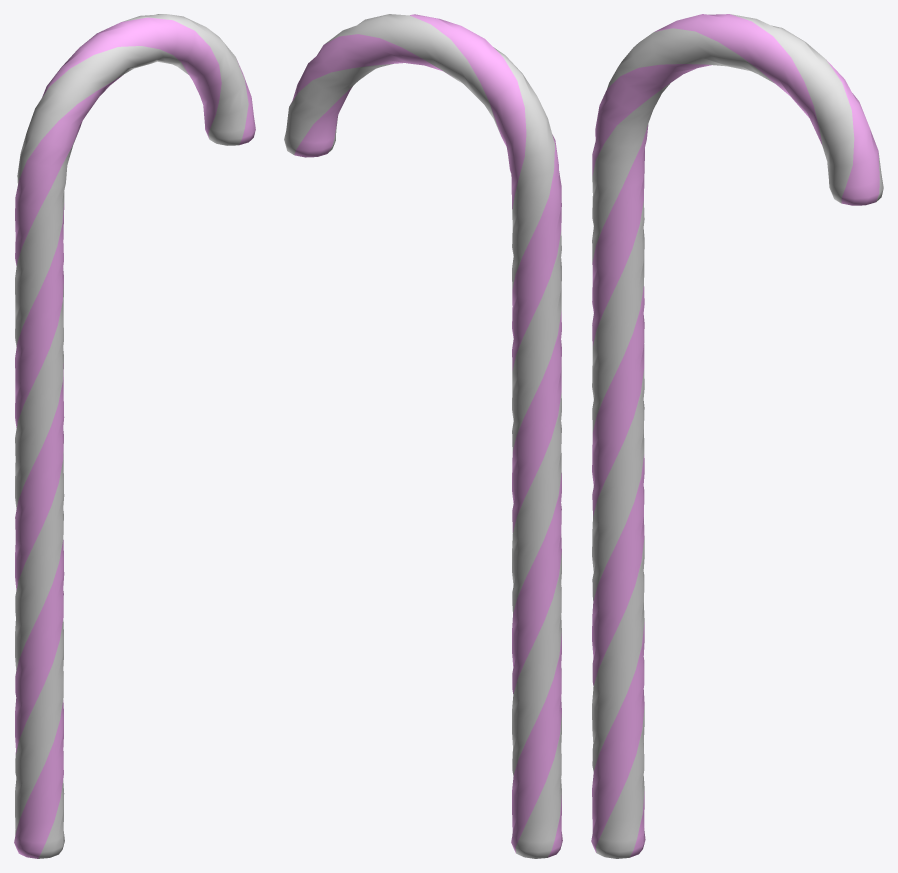
Rendered from Polkagris_5.glb.
3 renders of one model, left to right at view 1: azimuth 30°, elevation 25°; view 2: azimuth 150°, elevation 25°; view 3: azimuth 330°, elevation 25°, orthographic. The views are drawn at different scales.
Visible parts, largest first — view 1: Polkagrisar.005; view 2: Polkagrisar.005; view 3: Polkagrisar.005.
Part boxes in pixels (left/top/right/bottom): Polkagrisar.005: left=14, top=14, right=255, bottom=858; Polkagrisar.005: left=284, top=14, right=562, bottom=858; Polkagrisar.005: left=591, top=14, right=883, bottom=858.
Bounding box in the file's own units: 0.8152 × 2.48 × 0.2338.
